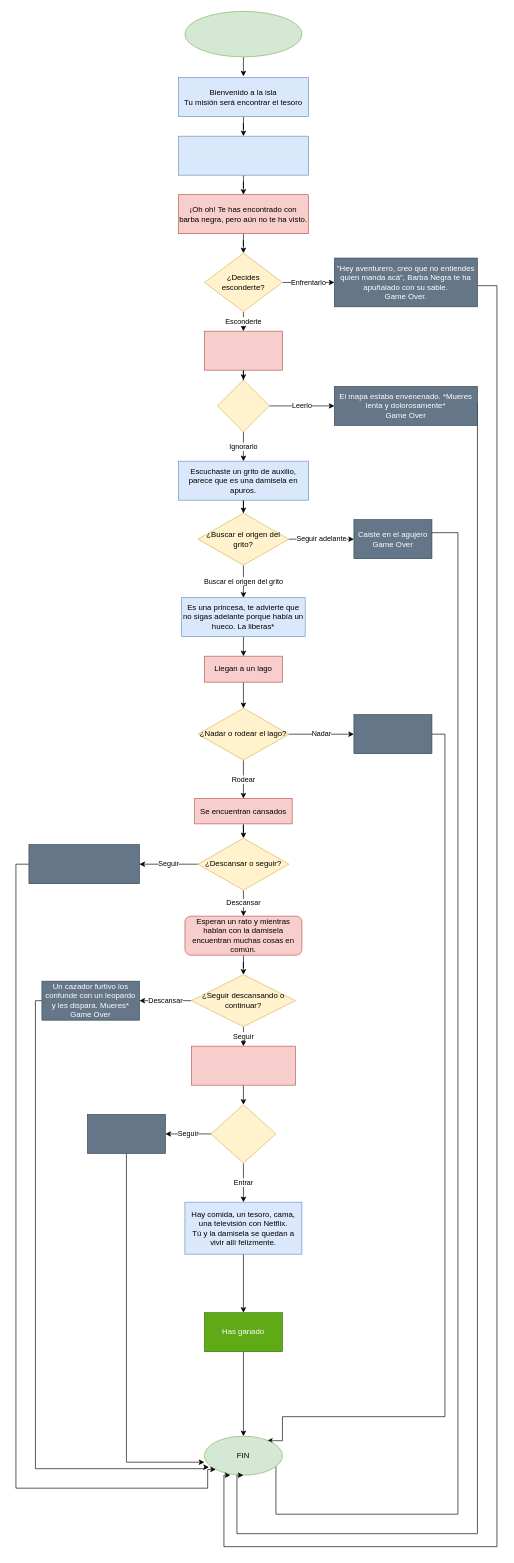
Image size: 514x1563. Some labels were removed from this diagram. The box of each missing label's shape, as (x1, y1, x2, y2) in pixels:
Atacado por una tribú Game Over: (353, 714, 432, 754)
Encontrarás muchos retos y decisiones que tomar, ¡Mucha Suerte!: (178, 136, 308, 175)
Encuentras una choza: (191, 1046, 295, 1085)
Había un tigre depredando en los alrededores y les ataca. Game Over.: (28, 844, 139, 884)
INICIO: (184, 11, 302, 57)
Te has encontrado con un mapa del tesoro.: (204, 331, 282, 370)
Te perdiste en la isla Game Over: (87, 1114, 165, 1153)
¿Entrar o seguir?: (210, 1104, 276, 1163)
¿Leer el mapa?: (217, 379, 269, 432)
